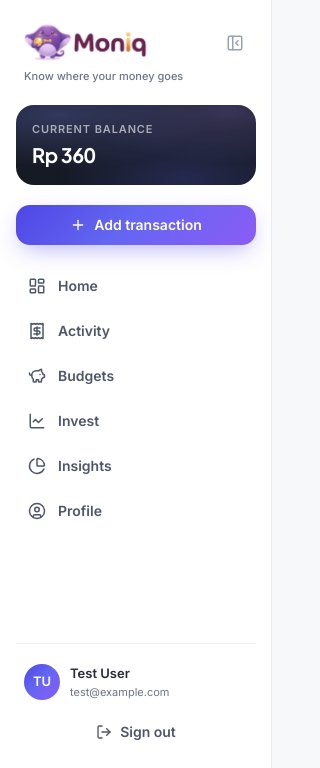
Scenario: Sidebar collapse › collapses to the mascot rail and keeps nav items accessible by name
Click the button named "Close sidebar". click: (235, 43)
box: [218,26,252,60]
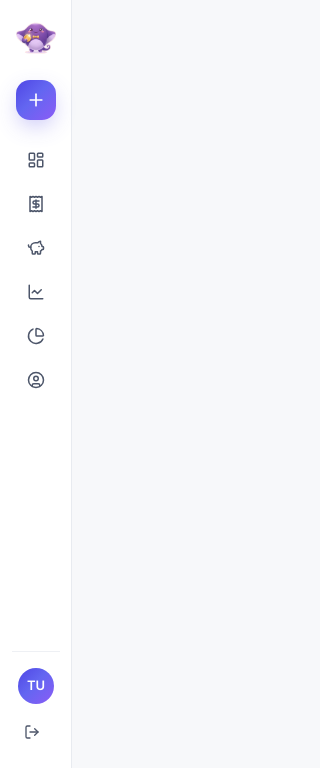
Result: the picture "Moniq" is gone
Result: the text "Current balance" is gone
Result: the button named "Open sidebar" is shown at [14,16,58,60]
